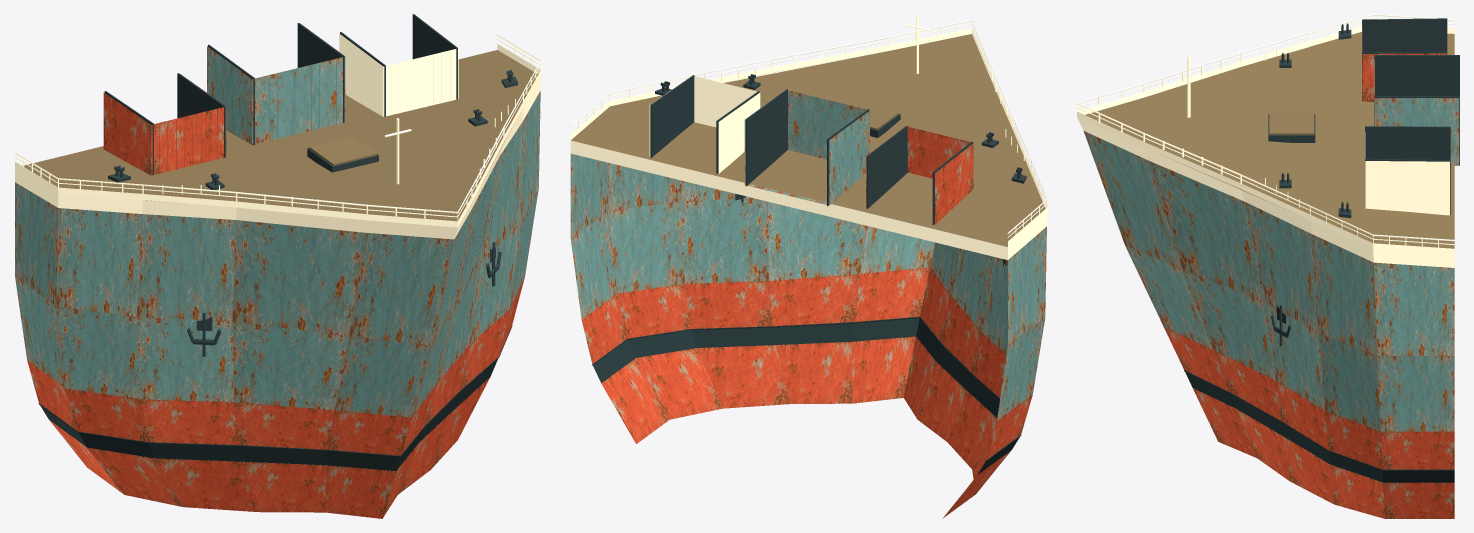
File: desert-cargo-bow.glb
3 views of the same model, side by side, from view 1: azimuth 30°, elevation 25°; view 2: azimuth 150°, elevation 25°; view 3: azimuth 270°, elevation 25° (orthographic). The views are drawn at different scales.
Parts seen in each view (by area): view 1: SM_S31_CargoBow_AnchorsAndWear; view 2: SM_S31_CargoBow_AnchorsAndWear; view 3: SM_S31_CargoBow_AnchorsAndWear.
Part boxes in pixels (x1,y1,x2,y2): SM_S31_CargoBow_AnchorsAndWear: [14, 14, 541, 518]; SM_S31_CargoBow_AnchorsAndWear: [570, 14, 1047, 518]; SM_S31_CargoBow_AnchorsAndWear: [1076, 14, 1459, 518].
Size of the model in its own units: 70.07 by 57 by 51.44.
6 materials, 2 textured.
